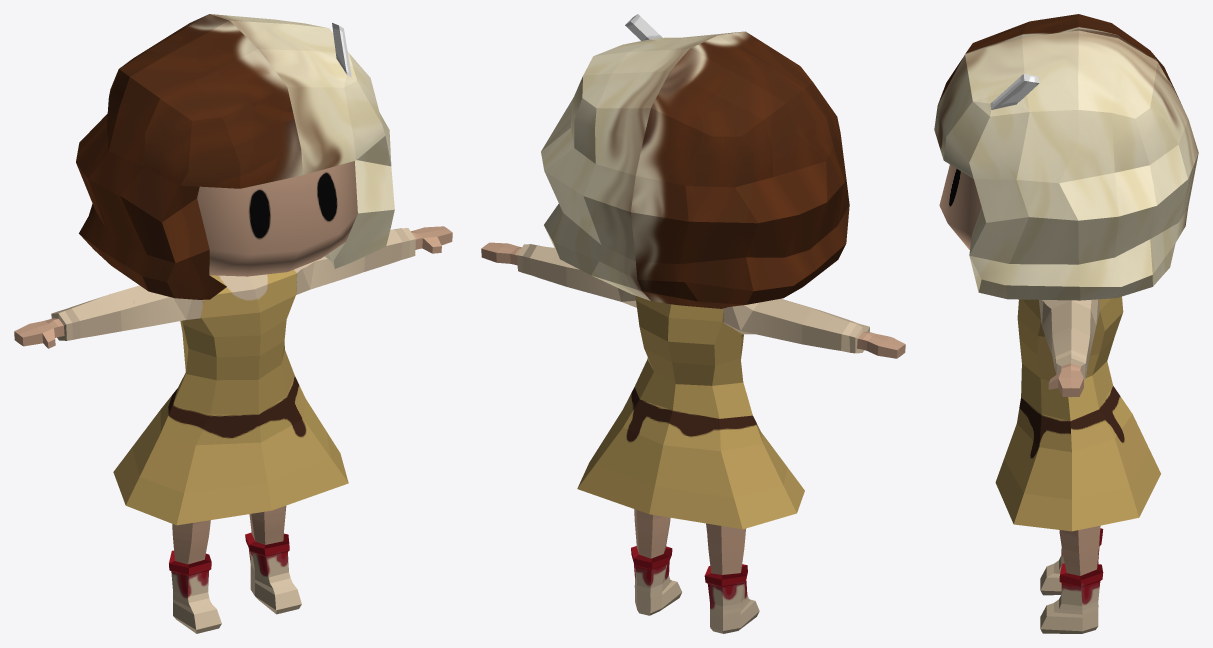
File: Cremi_texturizada.fbx
3 renders of one model, left to right at view 1: azimuth 30°, elevation 25°; view 2: azimuth 150°, elevation 25°; view 3: azimuth 270°, elevation 25°, orthographic. The views are drawn at different scales.
Visible parts, largest first — view 1: polySurface49; view 2: polySurface49; view 3: polySurface49.
Boxes of the visible parts, x1=… form: polySurface49: x1=14, y1=14, x2=452, y2=633; polySurface49: x1=481, y1=14, x2=905, y2=633; polySurface49: x1=934, y1=14, x2=1198, y2=633.
Size of the model in its own units: 64.33 by 83.98 by 34.79.
